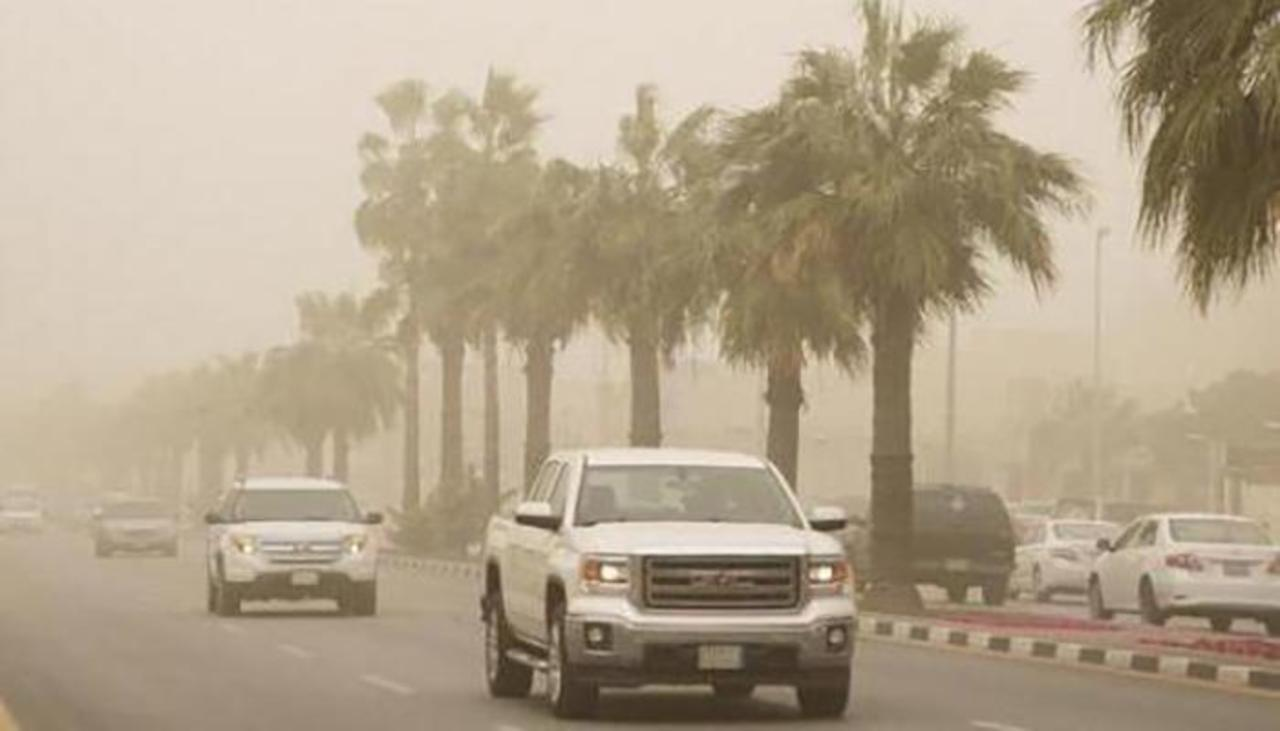car: (483, 452, 852, 714), (202, 477, 384, 620), (1085, 509, 1275, 628), (863, 479, 1008, 602), (1016, 511, 1119, 606), (89, 495, 178, 558), (1, 497, 47, 533), (63, 498, 105, 530)
